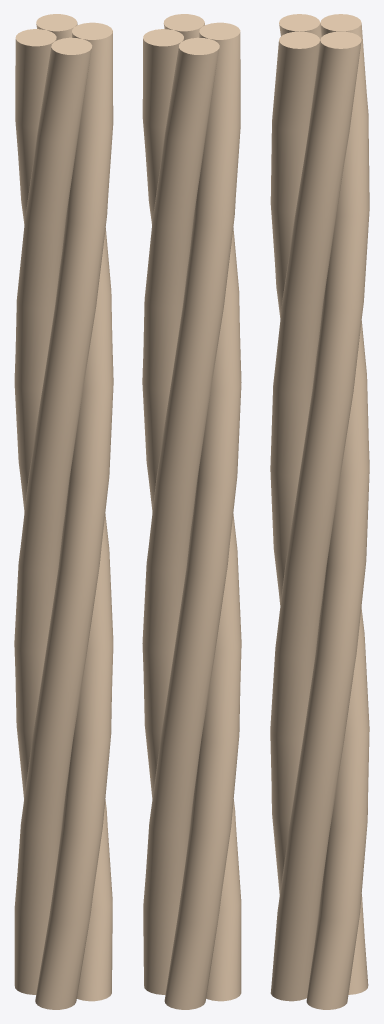
The model's file is Rope.glb.
The picture shows the model from 3 angles, left to right: view 1: azimuth 30°, elevation 25°; view 2: azimuth 210°, elevation 25°; view 3: azimuth 330°, elevation 25°; orthographic projection.
Visible parts, largest first — view 1: pCylinder24; view 2: pCylinder24; view 3: pCylinder24.
Boxes of the visible parts, x1,y1,x2,y2 form: pCylinder24: (14, 14, 113, 1009); pCylinder24: (142, 14, 241, 1009); pCylinder24: (270, 14, 369, 1009).
Bounding box in the file's own units: 2.28 × 24.25 × 2.28.
